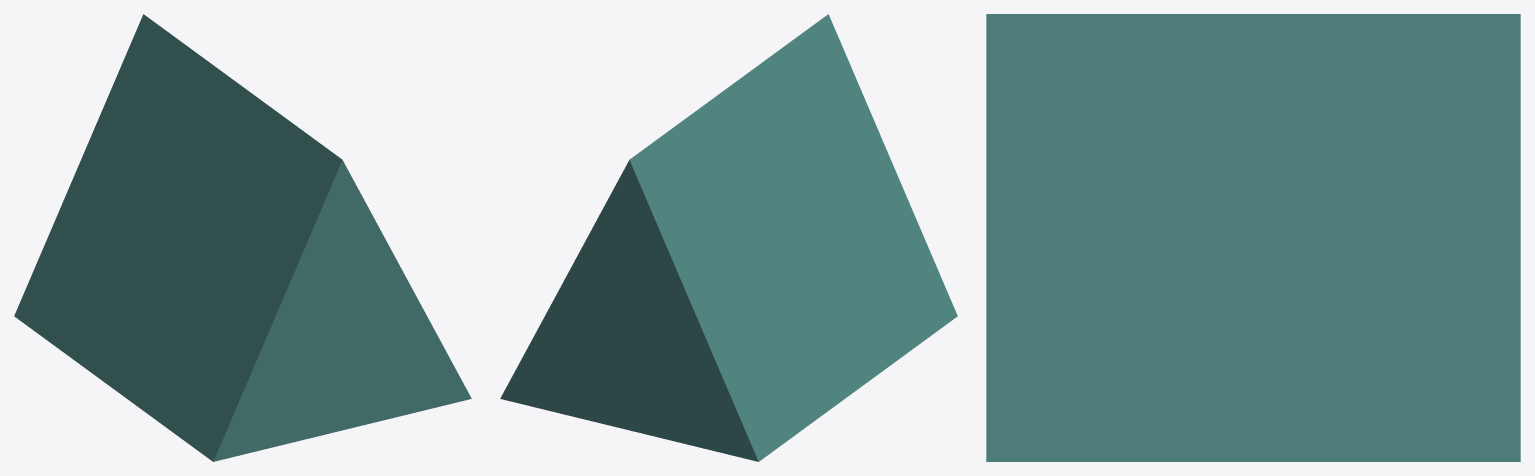
Rendered from wp-prisme-triangulaire.glb.
3 renders of one model, left to right at view 1: azimuth 30°, elevation 25°; view 2: azimuth 150°, elevation 25°; view 3: azimuth 270°, elevation 25°, orthographic. The views are drawn at different scales.
Parts seen in each view (by area): view 1: wp-prisme-triangulaire; view 2: wp-prisme-triangulaire; view 3: wp-prisme-triangulaire.
Boxes of the visible parts, x1=… form: wp-prisme-triangulaire: x1=14, y1=14, x2=471, y2=461; wp-prisme-triangulaire: x1=500, y1=14, x2=957, y2=461; wp-prisme-triangulaire: x1=986, y1=14, x2=1520, y2=461.
Bounding box in the file's own units: 0.3 × 0.3 × 0.4.
